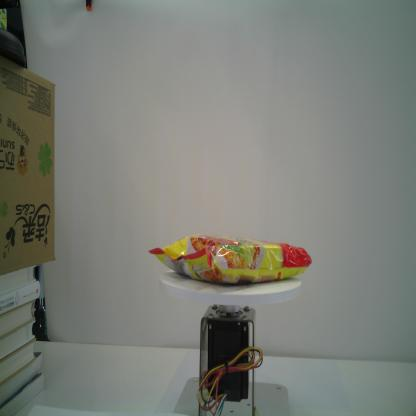Instant Noodles: (148, 232, 312, 285)
